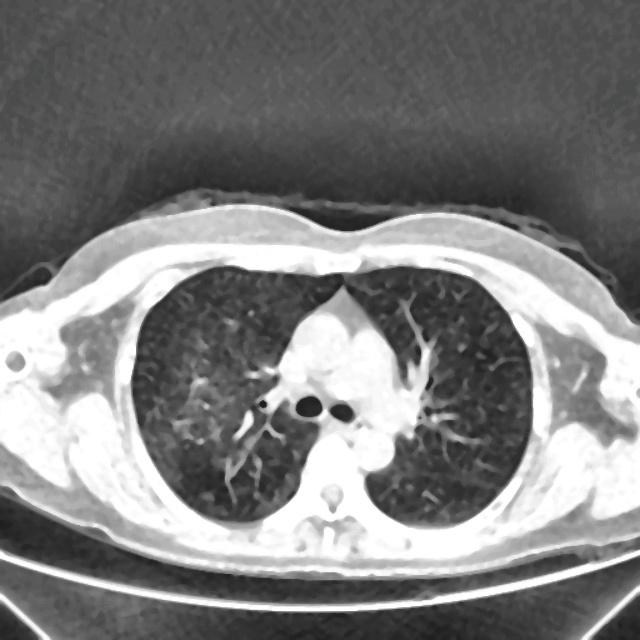covid: (0, 194, 639, 586)
